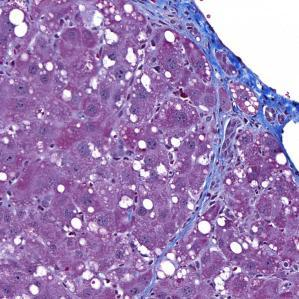fibrosis: (179, 16, 240, 132)
